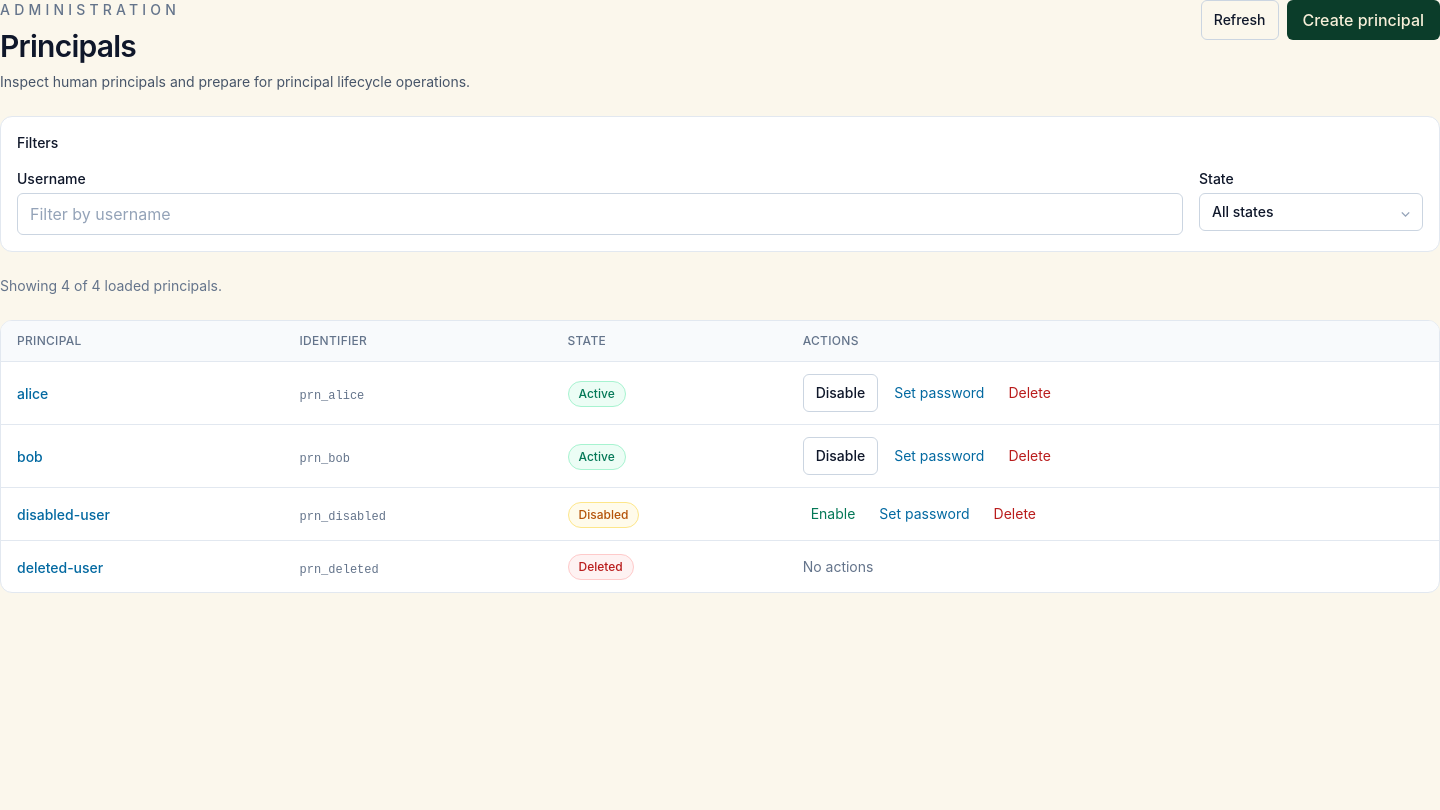
Test: shows partial success warning when personal space creation fails
This screenshot has width=1440, height=810.
Expected: the link "alice" is shown, [17,385,48,402]
Click the button "Create principal": (1363, 20) [1286,0,1439,40]
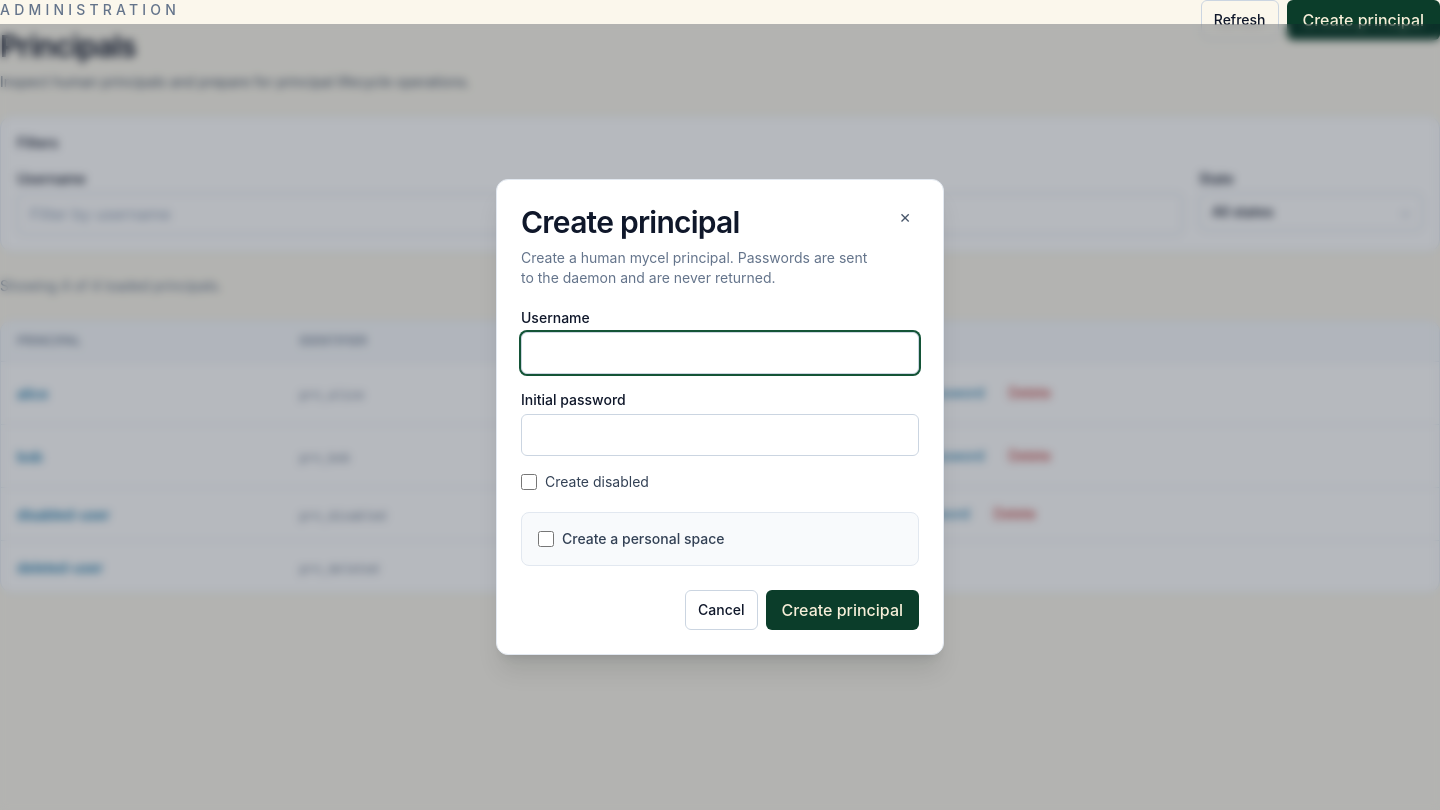
In the field labelled "Username": (720, 353) [521,332,919,374], type "new-user"
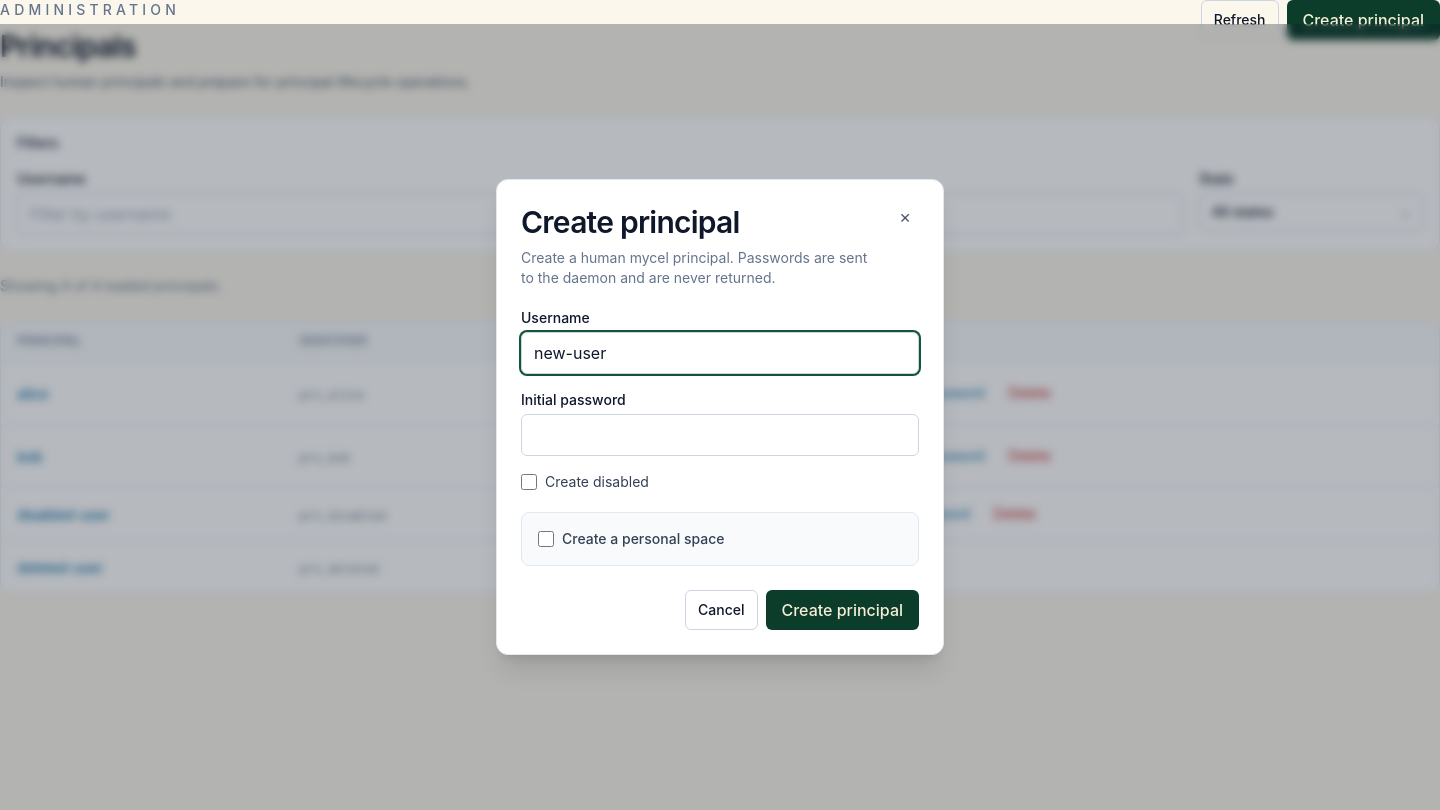
In the password field labelled "Initial password": (720, 435) [521,414,919,456], type "secret"
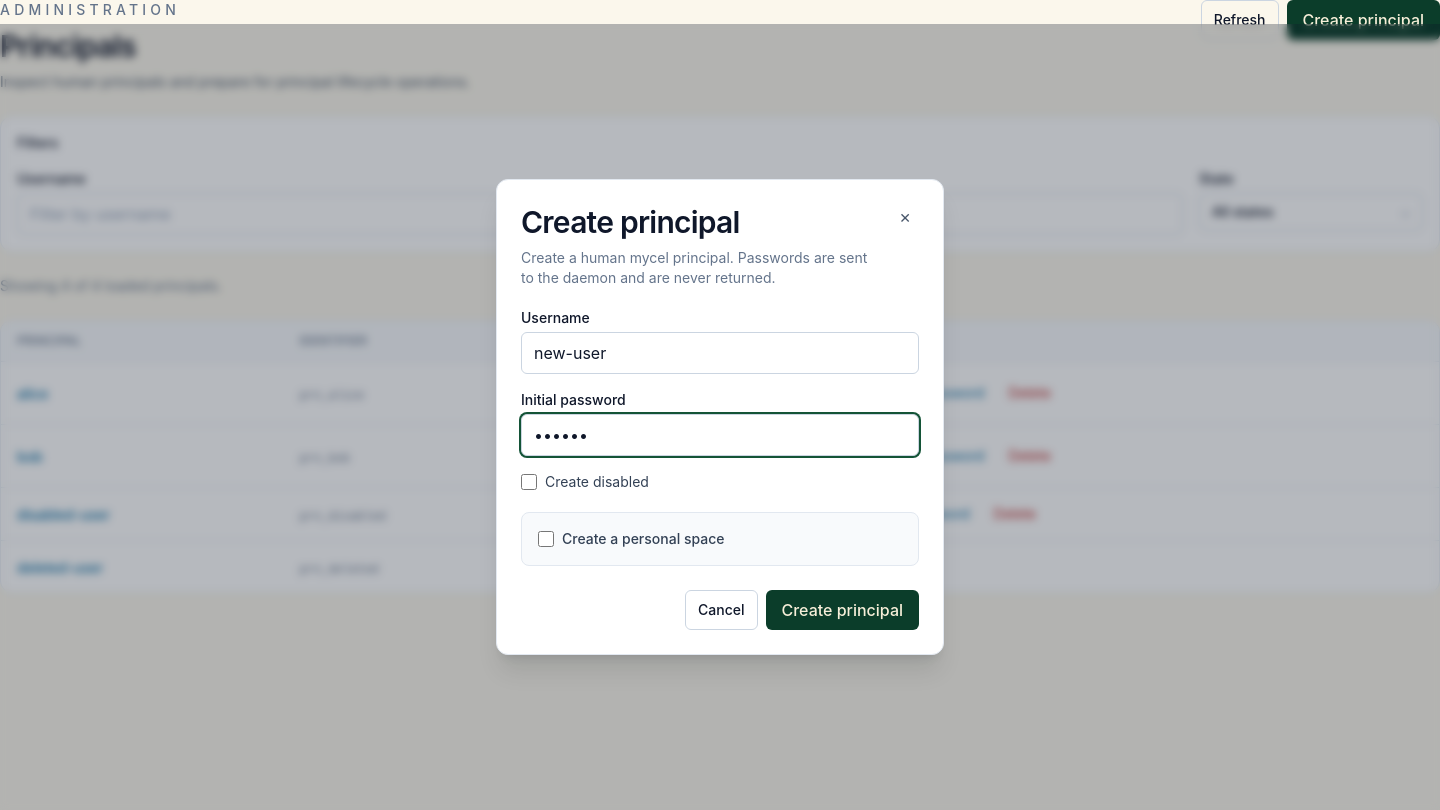
Click the checkbox labelled "Create a personal space": (546, 539) [538,531,554,547]
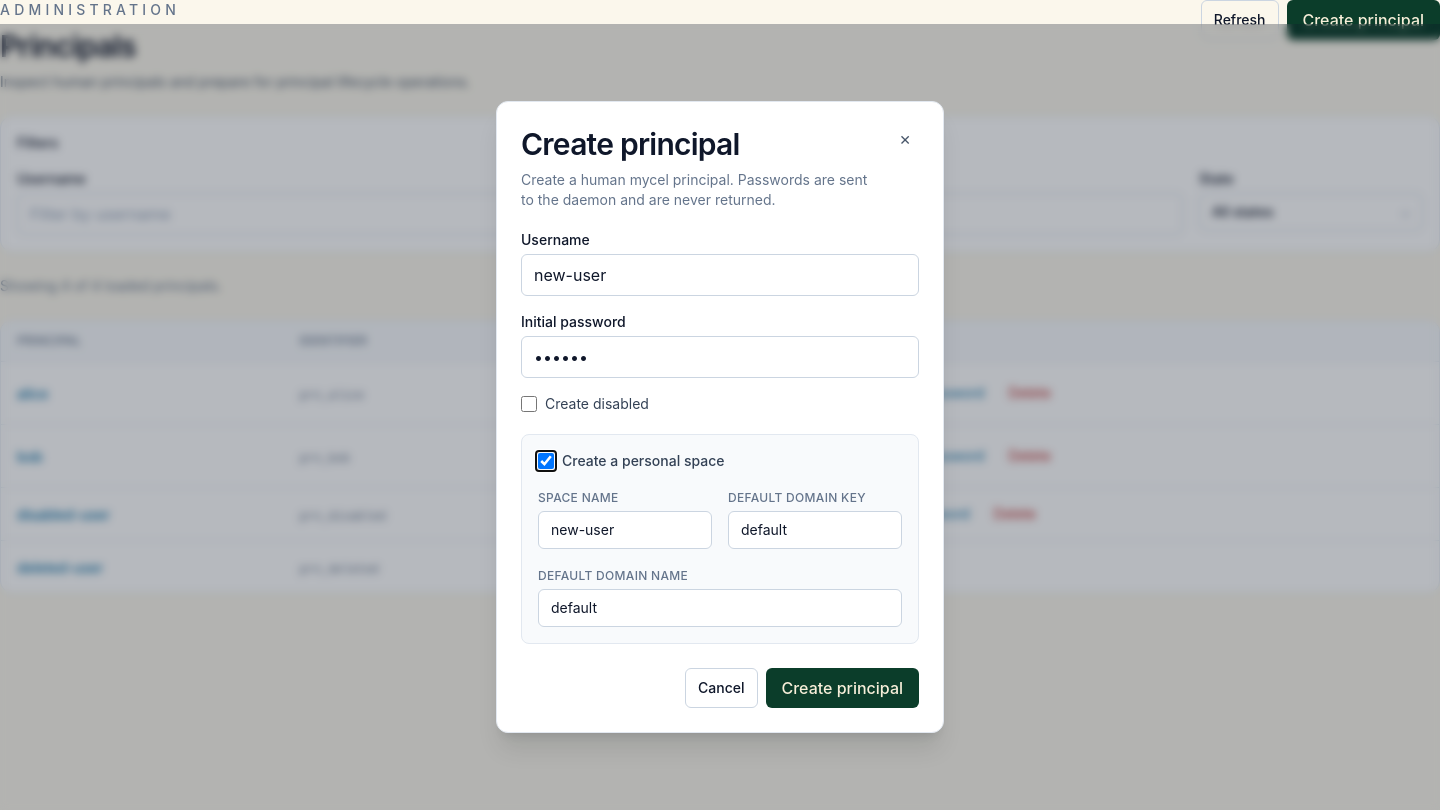
Click the button "Create principal" below "Default domain name": (842, 688) [766,668,919,708]
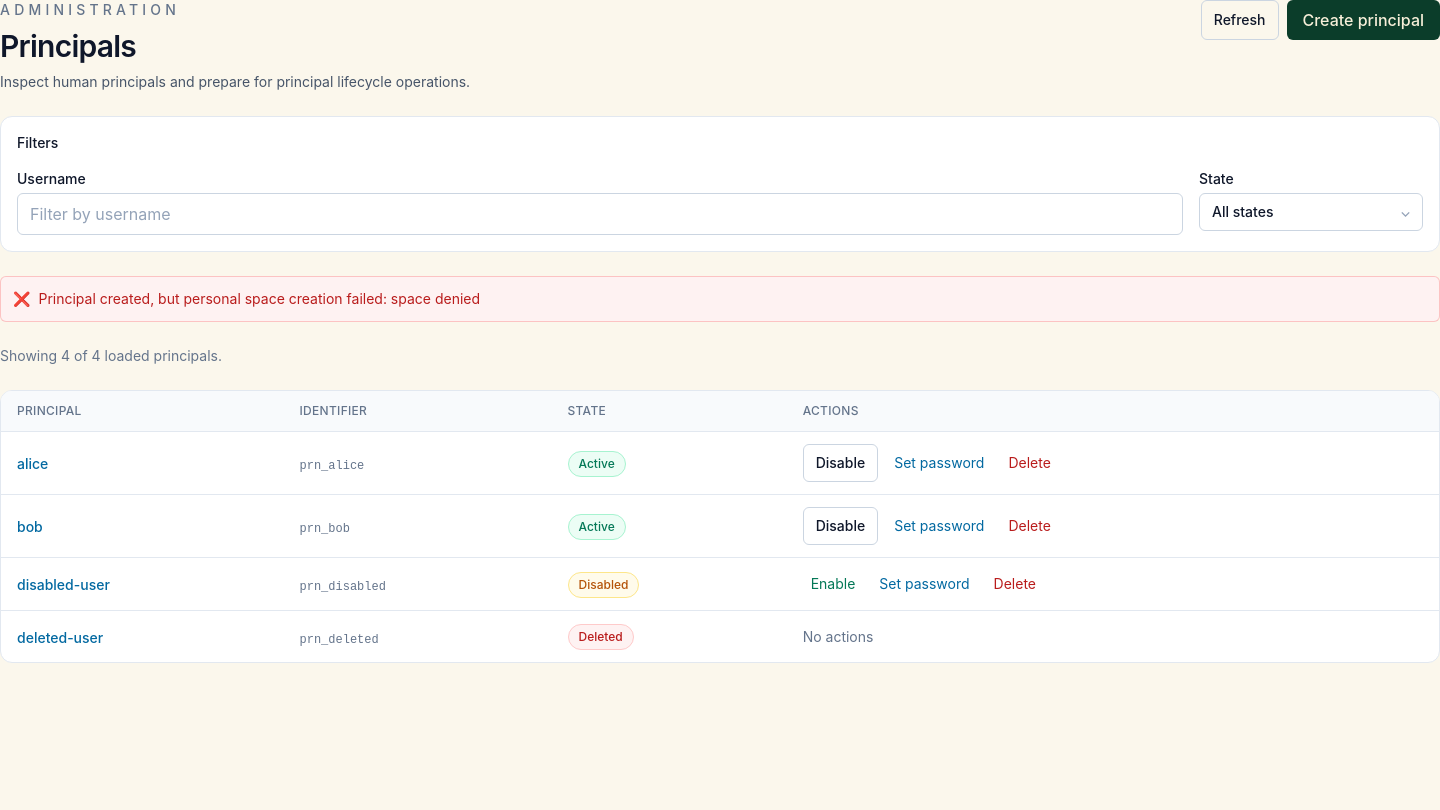
Result: the message shows "Principal created, but personal space creation failed: space denied" at [38,290,480,307]
